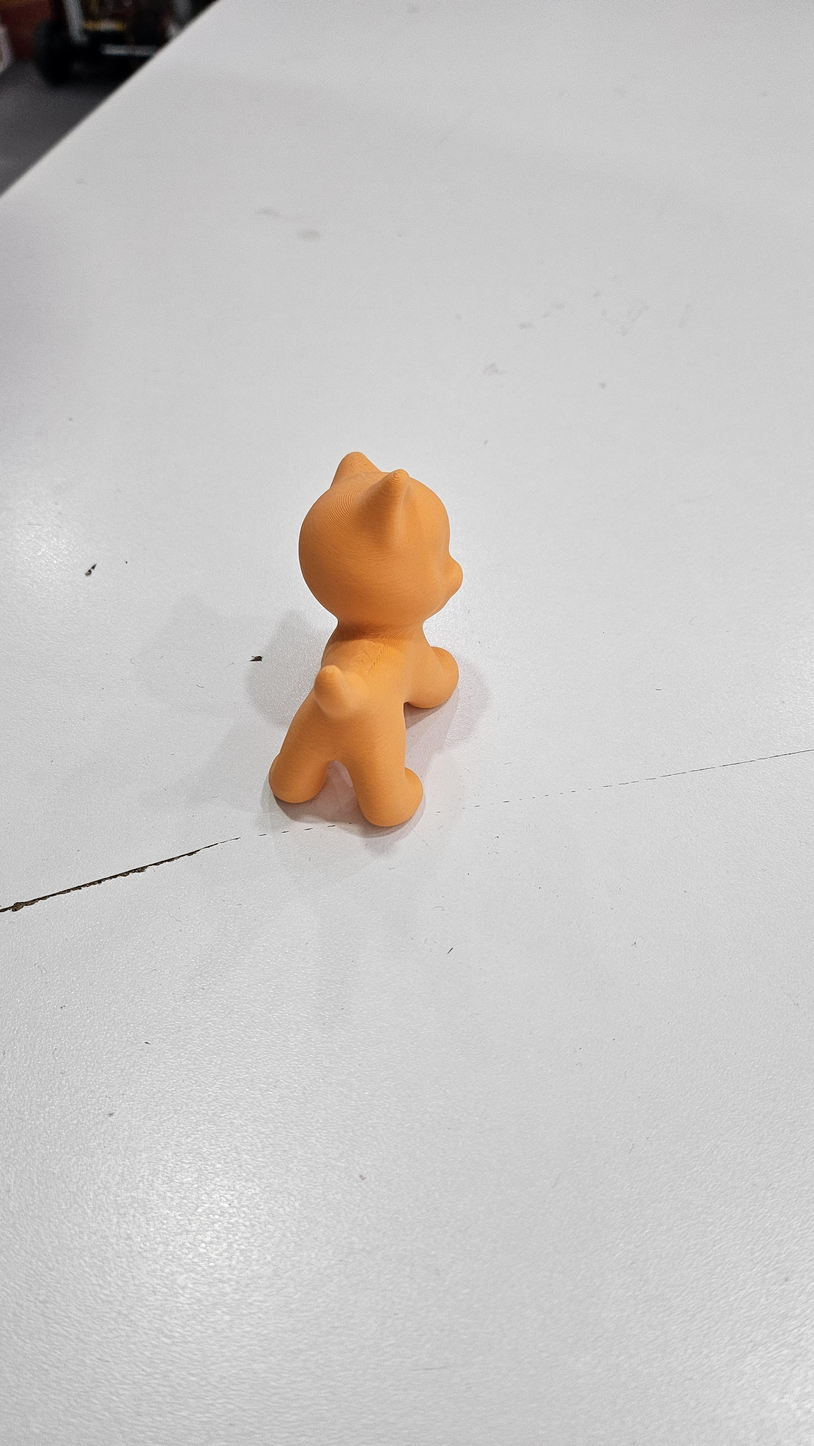cat: (266, 446, 469, 835)
